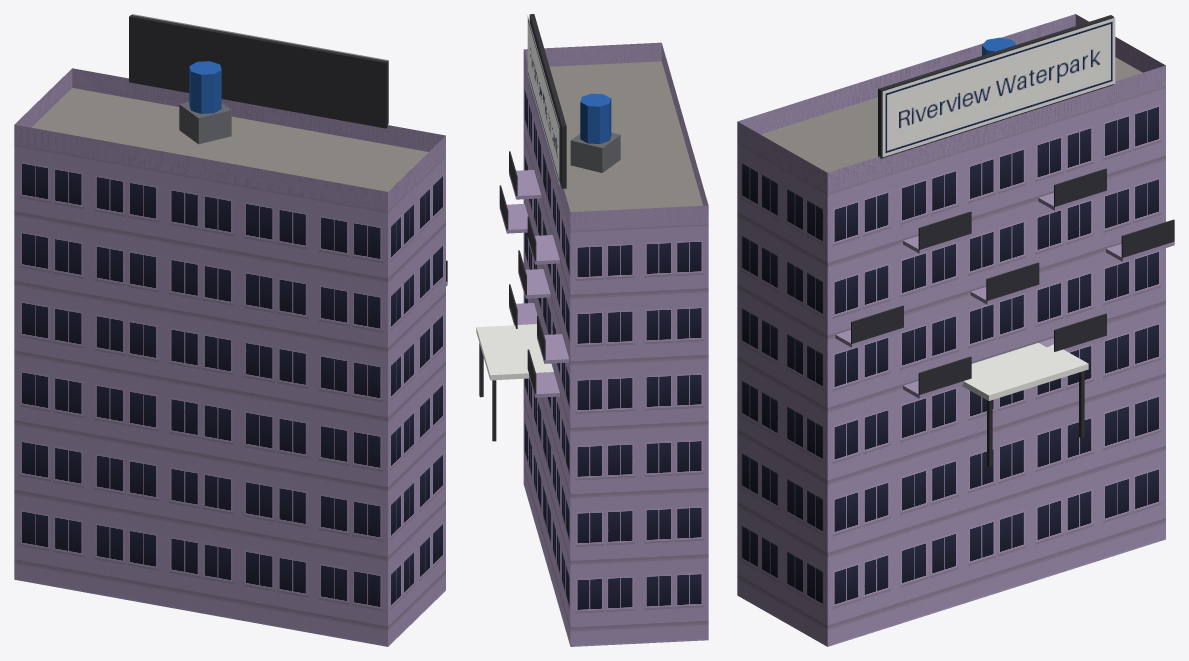
Rendered from hotels-27353-14867.68e74e08.glb.
3 renders of one model, left to right at view 1: azimuth 30°, elevation 25°; view 2: azimuth 150°, elevation 25°; view 3: azimuth 270°, elevation 25°, orthographic. The views are drawn at different scales.
Bounding box in the file's own units: 15.68 × 23.83 × 17.49.
Materials: 4 (2 with a texture image).
